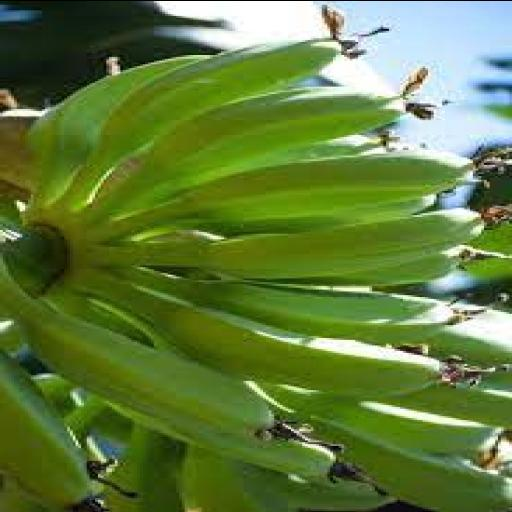banana: (61, 39, 337, 211), (81, 273, 441, 399), (0, 275, 273, 436), (92, 87, 401, 220), (97, 150, 474, 239), (92, 208, 485, 280), (27, 55, 206, 207), (114, 268, 466, 345), (307, 417, 511, 511), (262, 385, 499, 457), (0, 355, 102, 511), (117, 409, 334, 477), (190, 195, 435, 237), (260, 247, 508, 287), (179, 446, 292, 511), (106, 426, 180, 511), (44, 288, 147, 343), (254, 471, 393, 511), (383, 387, 511, 429), (419, 311, 511, 365), (254, 136, 385, 166), (30, 374, 80, 416), (0, 478, 49, 511)
